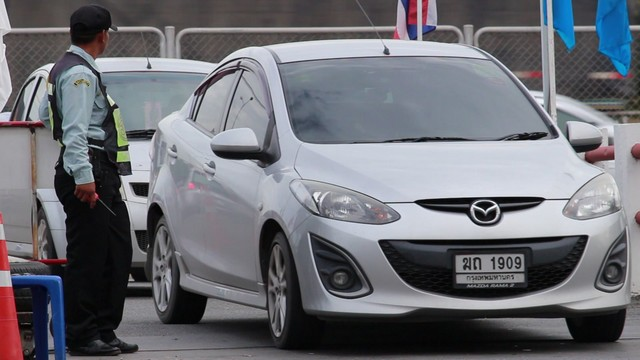in: (456, 254, 524, 283)
out: (446, 247, 532, 290)
